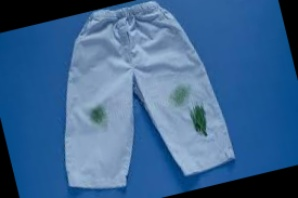earth: (189, 105, 211, 135), (169, 85, 188, 106), (91, 106, 106, 125)
